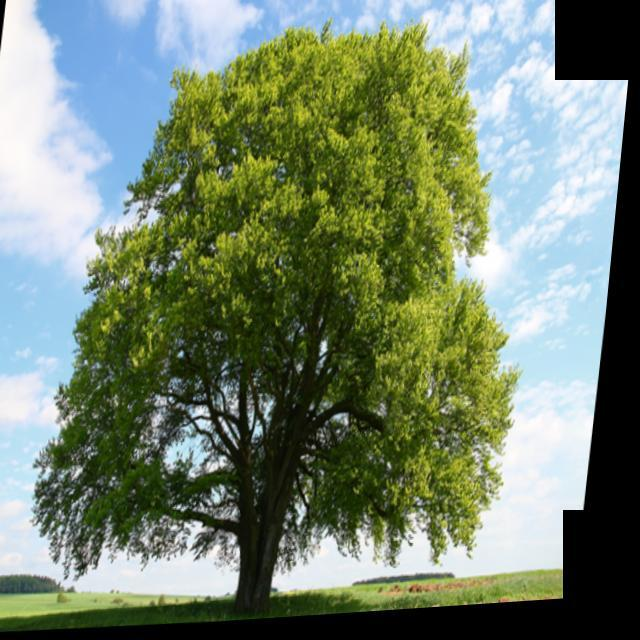Tree: (33, 6, 573, 619)
